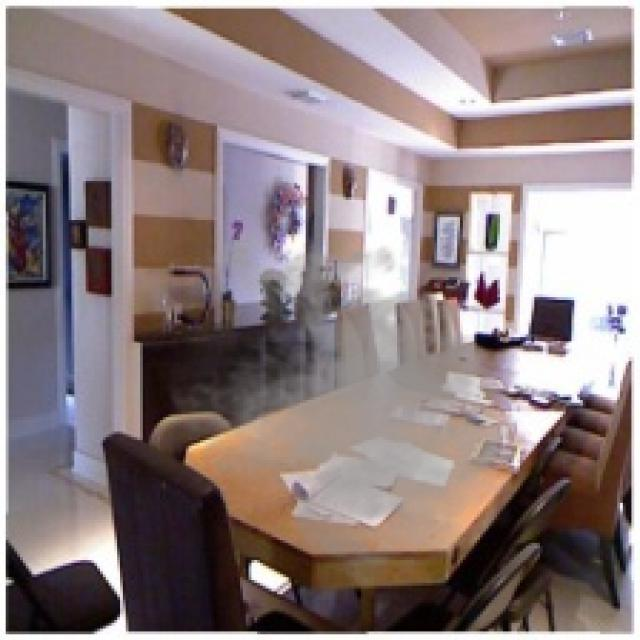smoke: (146, 223, 540, 591)
